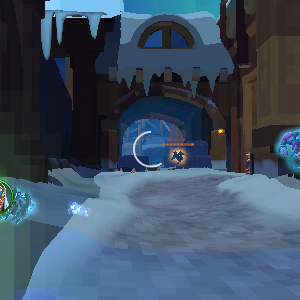model: (172, 150, 186, 165)
